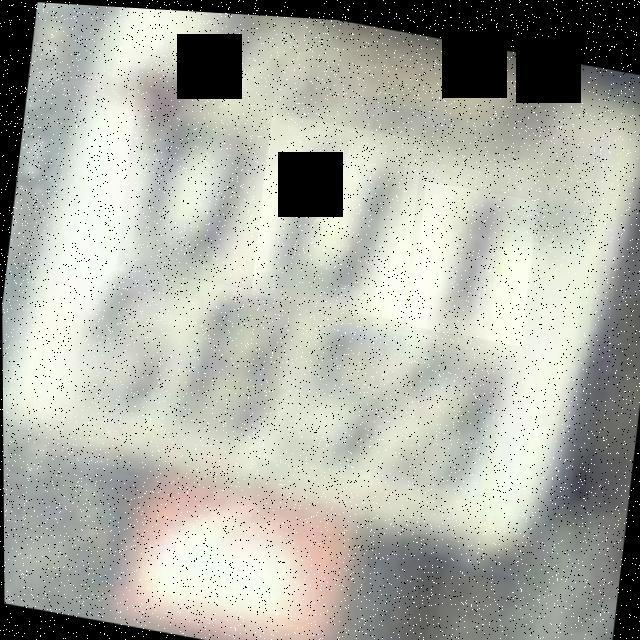5: (47, 224, 207, 446)
B: (408, 174, 538, 340)
O: (114, 65, 275, 288)
T: (402, 154, 544, 354)
U: (249, 108, 423, 317)
